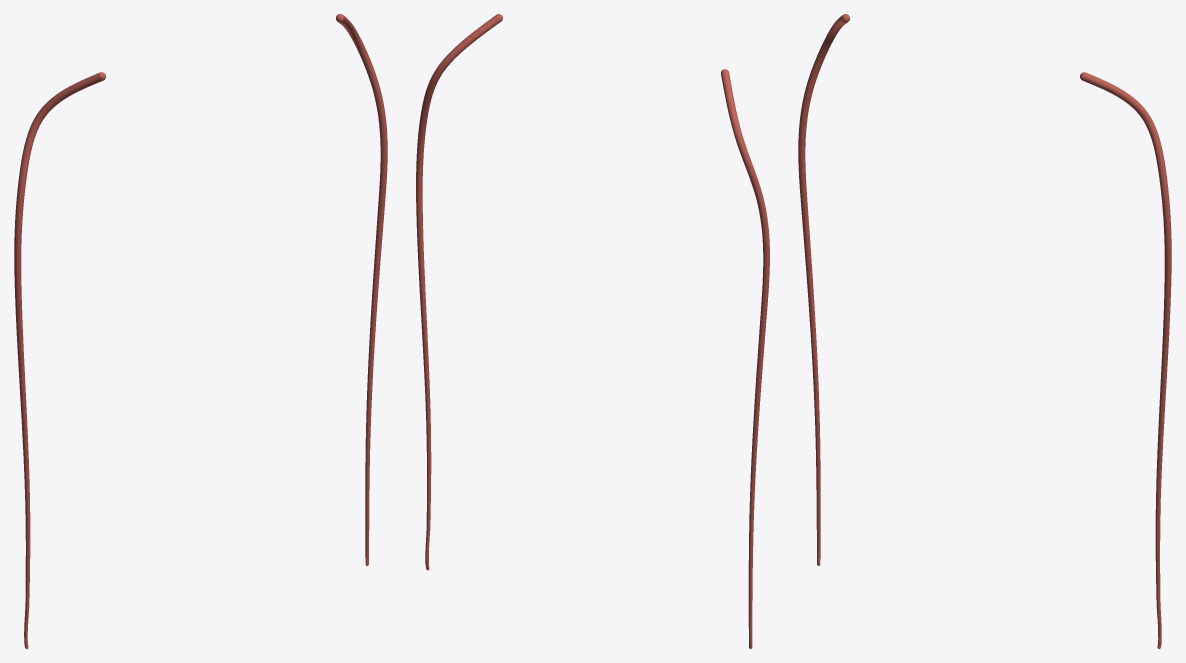
File: circumflex-femoral.glb
3 views of the same model, side by side, from view 1: azimuth 30°, elevation 25°; view 2: azimuth 150°, elevation 25°; view 3: azimuth 330°, elevation 25° (orthographic). The views are drawn at different scales.
Parts seen in each view (by area): view 1: FMA21422, FMA21423; view 2: FMA21422, FMA21423; view 3: FMA21423, FMA21422.
Part boxes in pixels (box(x1,y1,x2,y2)): FMA21422: box(14, 72, 105, 648); FMA21423: box(336, 14, 387, 565); FMA21422: box(721, 69, 769, 648); FMA21423: box(416, 14, 502, 570); FMA21423: box(1080, 72, 1171, 648); FMA21422: box(798, 14, 849, 565).
Size of the model in its own units: 2.43 by 3.62 by 0.3105.
